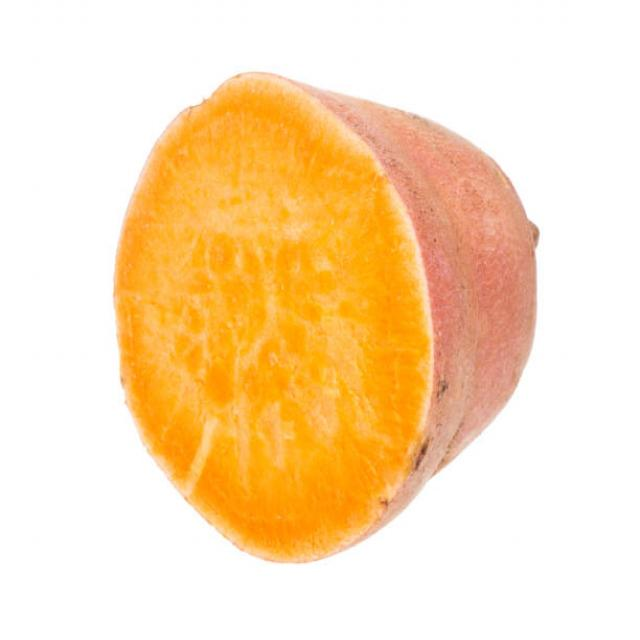Sweet Potato: (108, 70, 540, 564)
